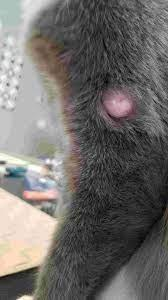lump_and_bump: (99, 87, 136, 125)
